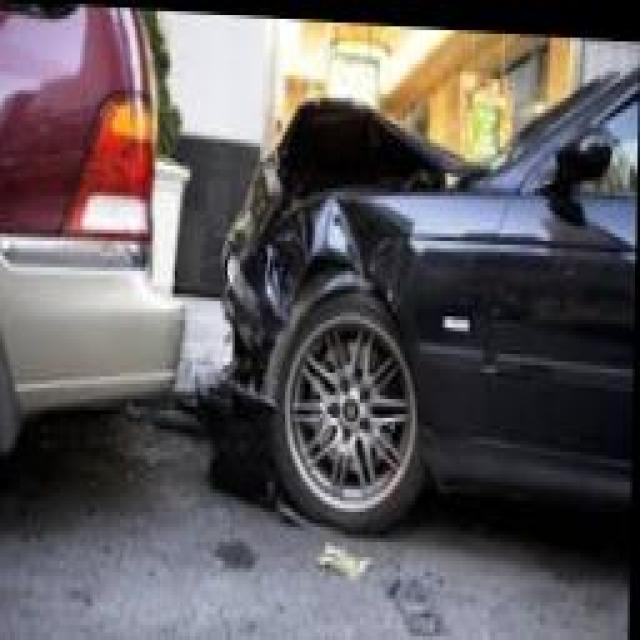Bonnet: (225, 86, 489, 257)
Bumper: (196, 257, 285, 502)
Fender: (262, 185, 426, 332)
